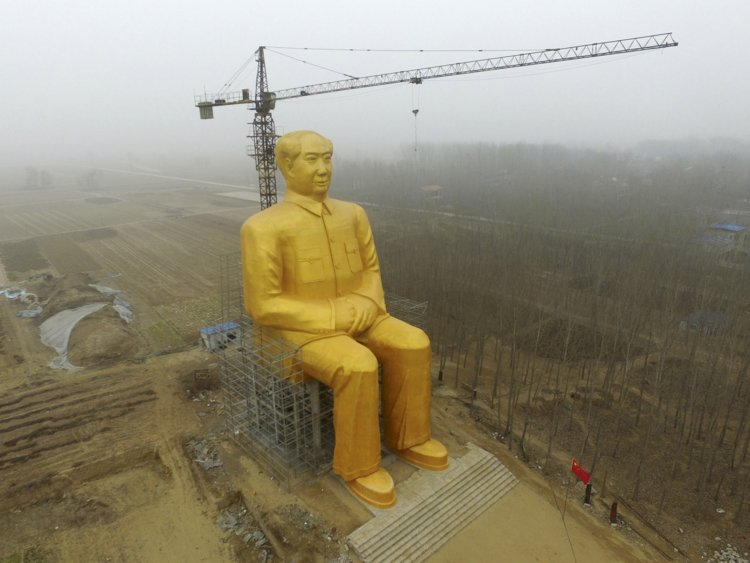person-like: (235, 127, 454, 510)
